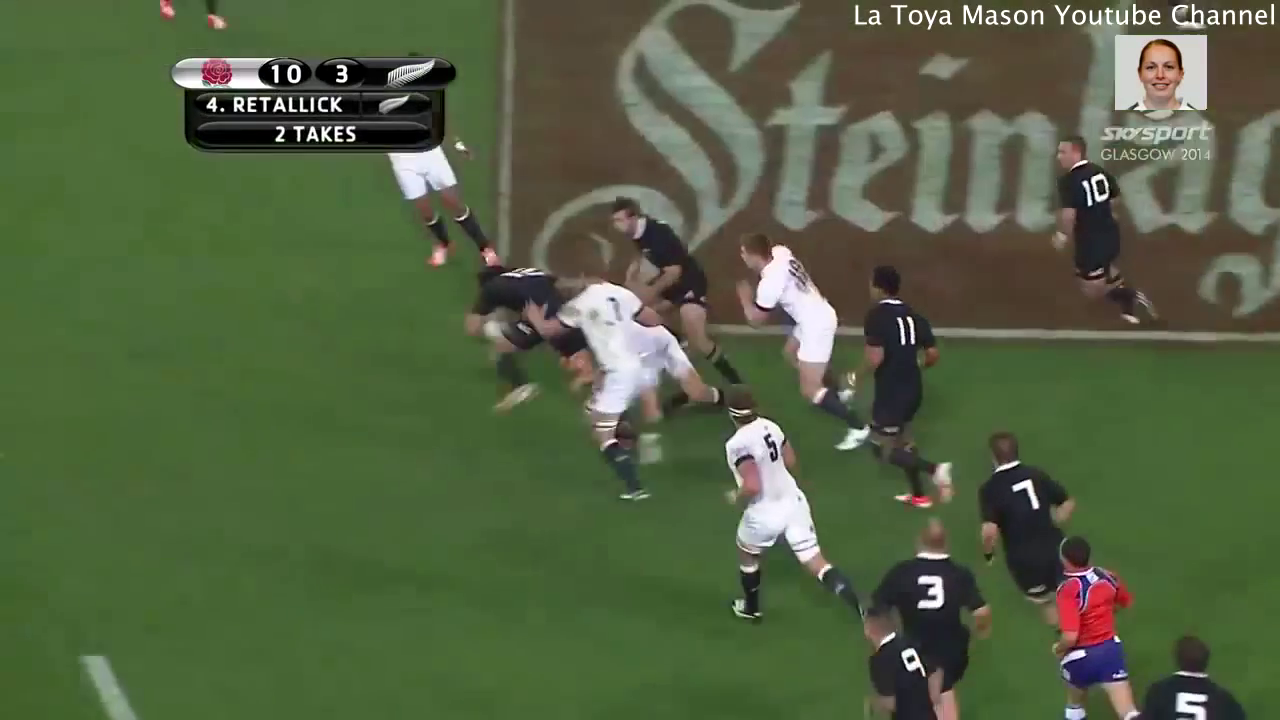player: (714, 380, 869, 630), (725, 232, 869, 454), (855, 263, 969, 508), (550, 271, 662, 518), (609, 193, 747, 389), (1045, 127, 1163, 330), (870, 520, 981, 720), (971, 426, 1075, 632), (1054, 536, 1141, 720), (373, 152, 505, 268), (468, 257, 553, 410), (851, 604, 943, 720), (1136, 636, 1251, 720)
